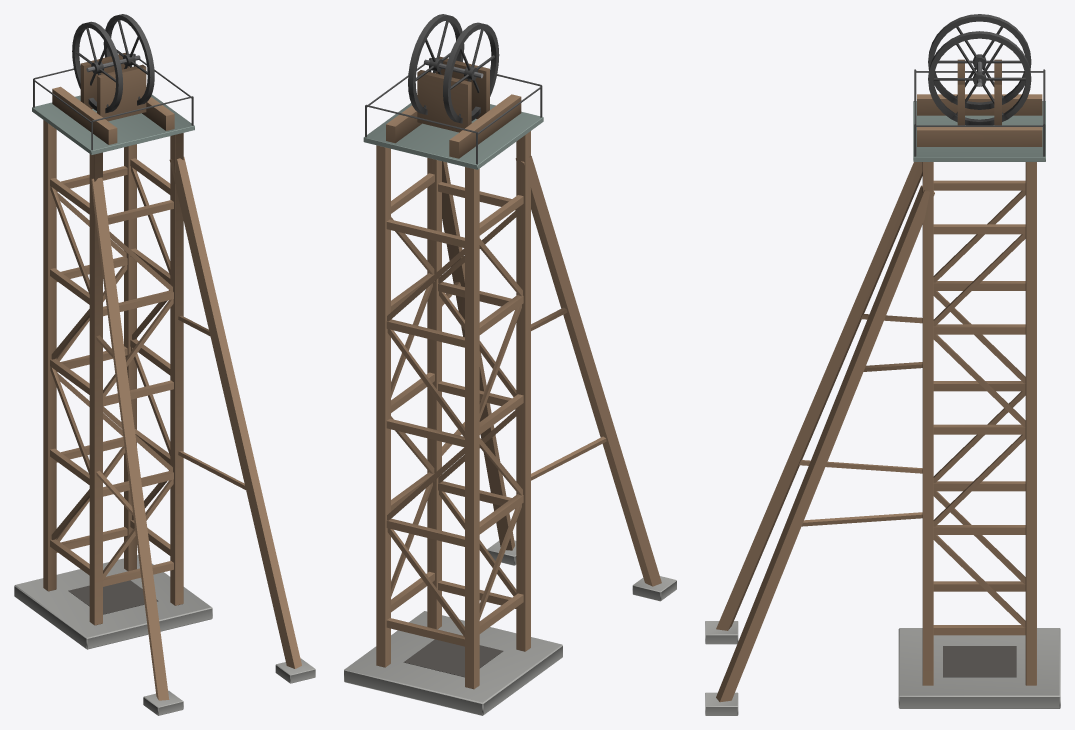
Rendered from headframe.glb.
The picture shows the model from 3 angles, left to right: view 1: azimuth 30°, elevation 25°; view 2: azimuth 150°, elevation 25°; view 3: azimuth 270°, elevation 25°; orthographic projection. The views are drawn at different scales.
Visible parts, largest first — view 1: static; view 2: static; view 3: static.
Part boxes in pixels (left/top/right/bottom): static: left=14, top=14, right=315, bottom=715; static: left=344, top=14, right=676, bottom=715; static: left=705, top=14, right=1060, bottom=715.
Size of the model in its own units: 5.5 by 19.5 by 9.65.
